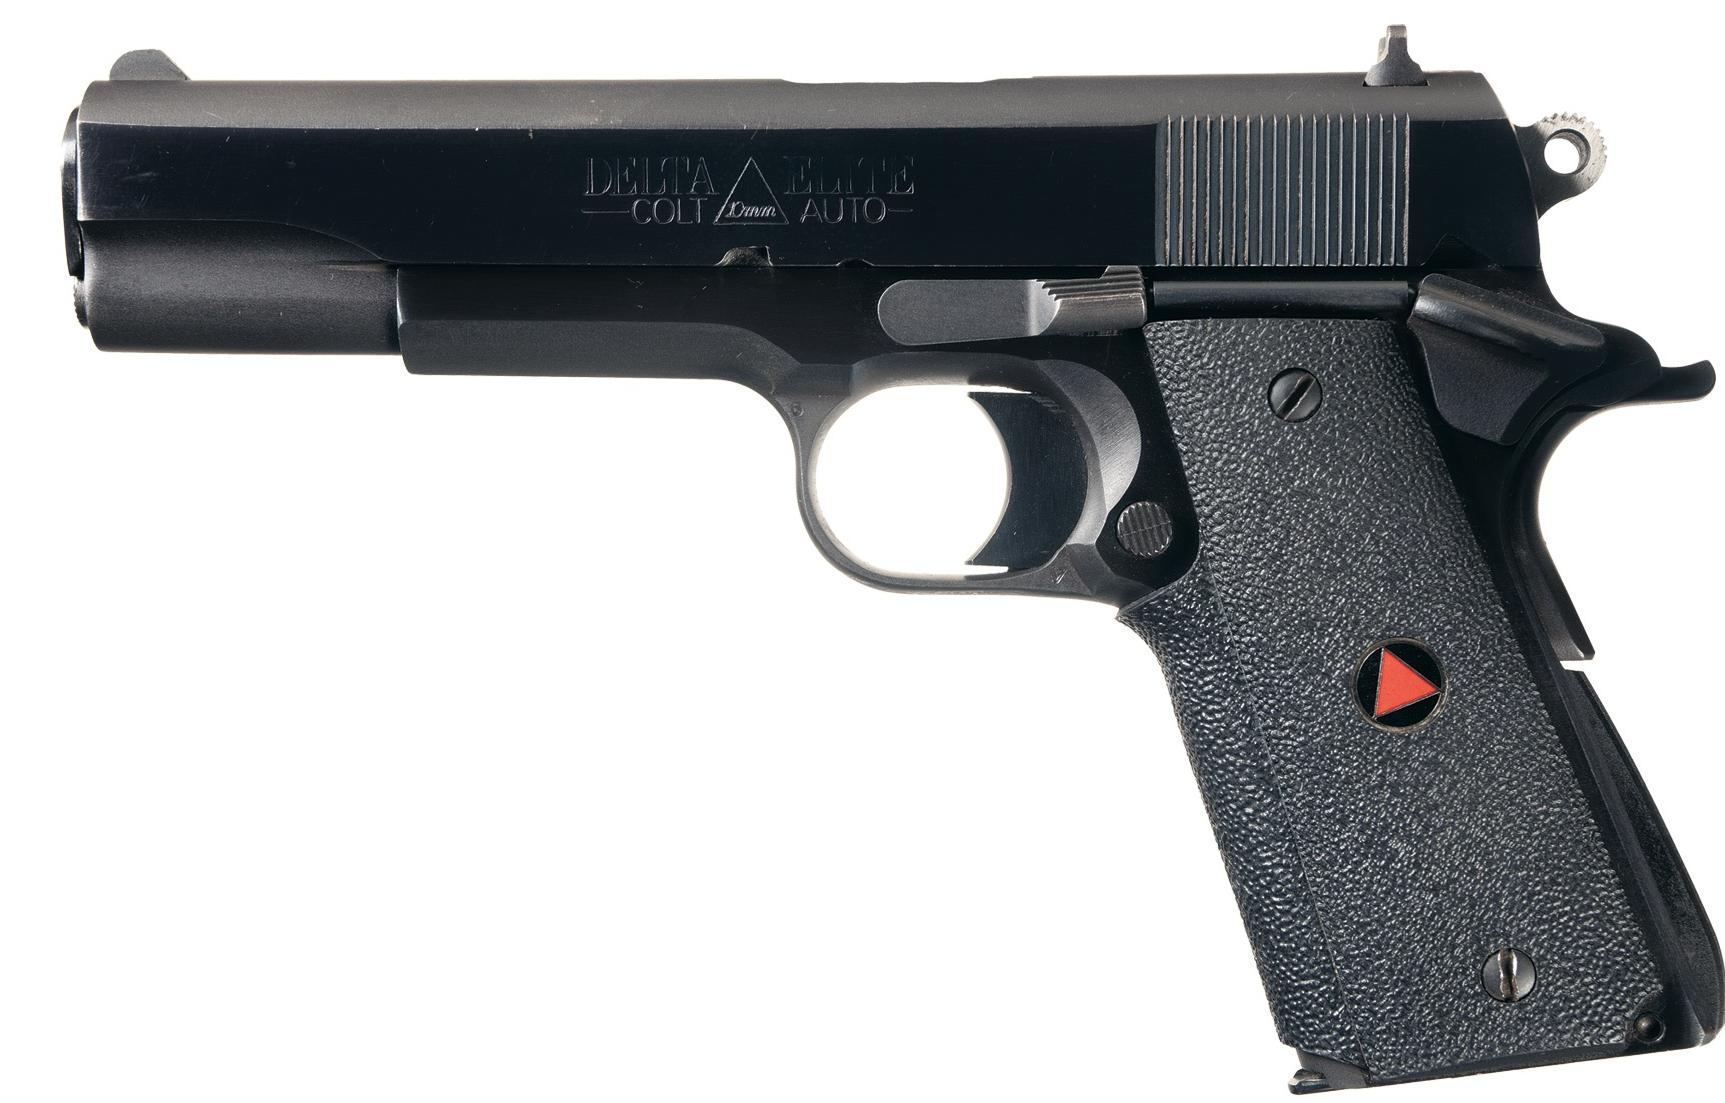gun: (0, 1, 1725, 1103)
